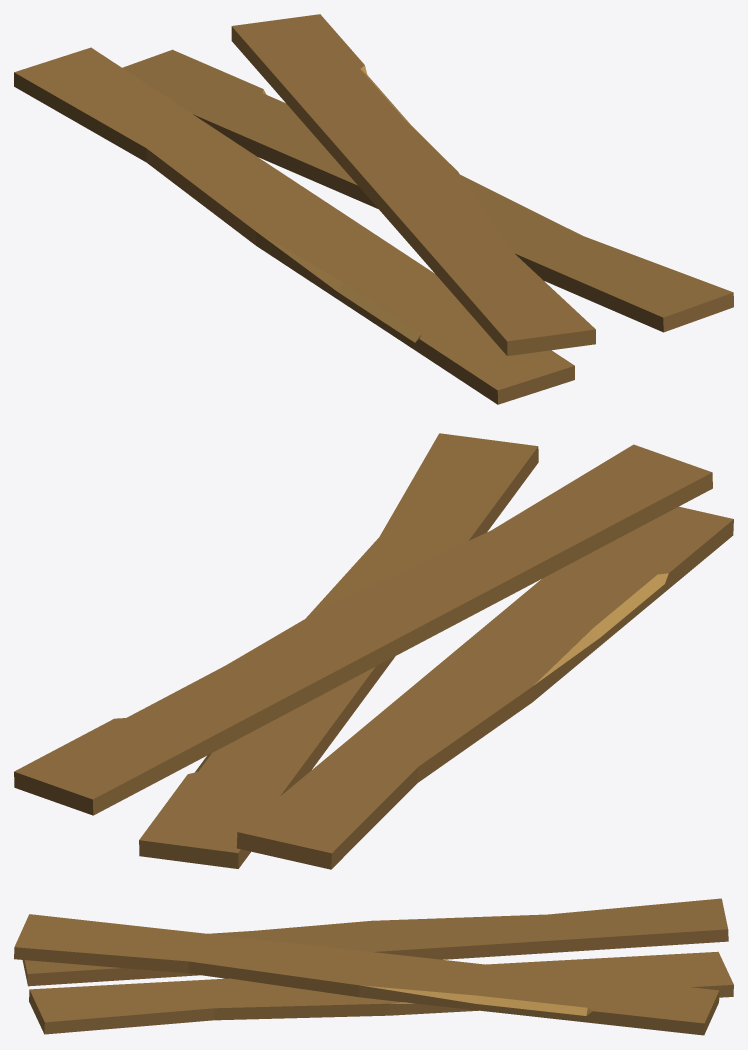
File: leakPlanks-DIXW2JmK.glb
The picture shows the model from 3 angles, top to bottom: view 1: azimuth 30°, elevation 25°; view 2: azimuth 150°, elevation 25°; view 3: azimuth 270°, elevation 25°; orthographic projection. The views are drawn at different scales.
Parts seen in each view (by area): view 1: WoodPlanks; view 2: WoodPlanks; view 3: WoodPlanks.
Boxes of the visible parts, left/top/right/bottom form: WoodPlanks: left=14, top=14, right=733, bottom=404; WoodPlanks: left=14, top=433, right=733, bottom=869; WoodPlanks: left=14, top=898, right=733, bottom=1035.
Bounding box in the file's own units: 0.7164 × 0.1244 × 1.73.
